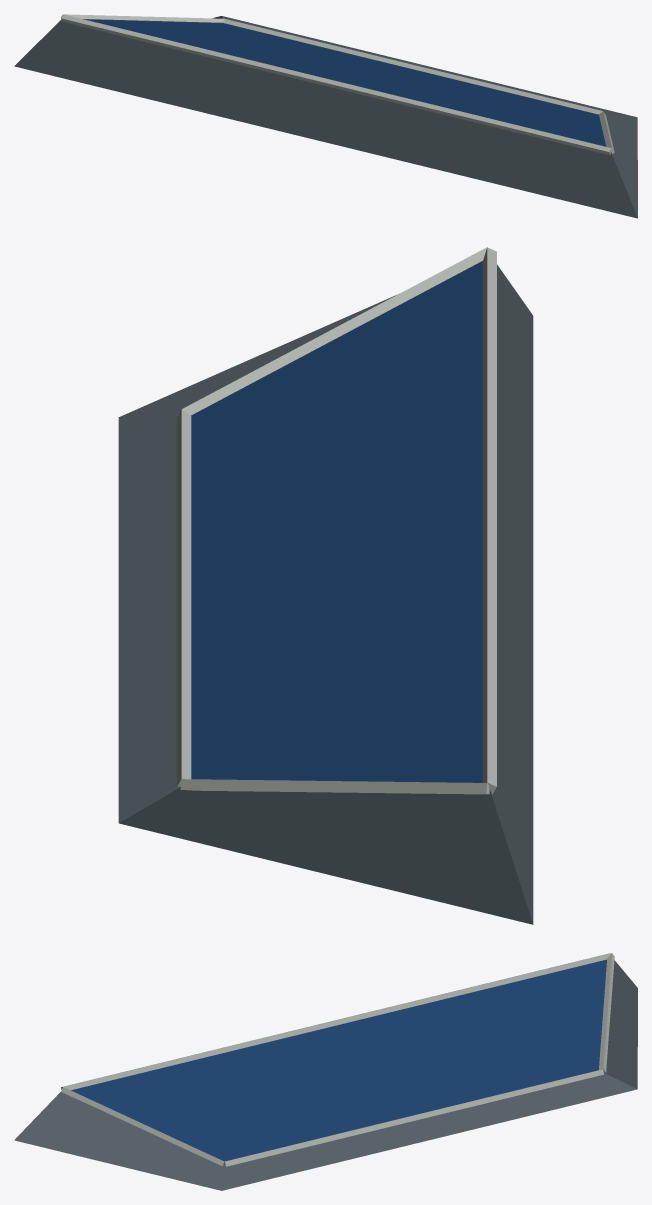
Rendered from bevel5.glb.
3 views of the same model, one above another, from view 1: azimuth 30°, elevation 25°; view 2: azimuth 150°, elevation 25°; view 3: azimuth 270°, elevation 25° (orthographic). The views are drawn at different scales.
Parts seen in each view (by area): view 1: bevel5; view 2: bevel5; view 3: bevel5.
Boxes of the visible parts, x1,y1,x2,y2 form: bevel5: [14, 14, 637, 218]; bevel5: [118, 247, 533, 924]; bevel5: [14, 953, 637, 1190].
Size of the model in its own units: 43.95 by 5.33 by 57.16.
